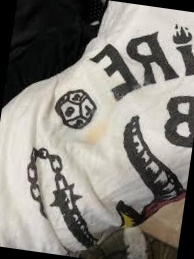mustard: (88, 121, 111, 151)
